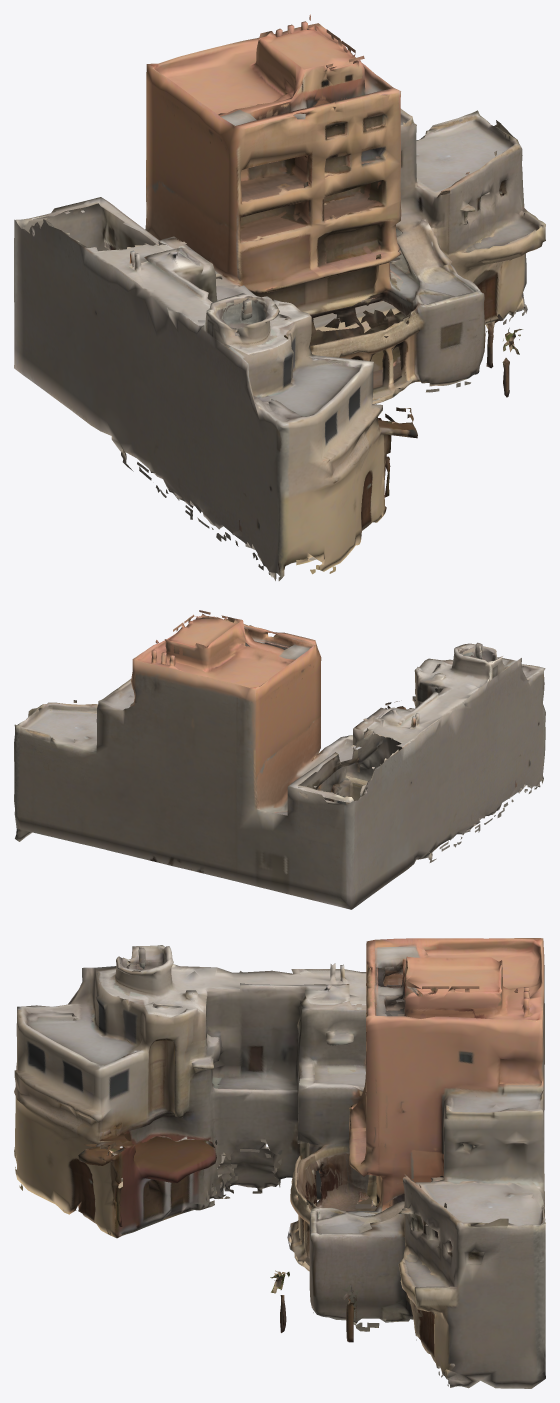
The model's file is Create_a_small_middle_0605115339_texture.obj.
3 renders of one model, top to bottom at view 1: azimuth 30°, elevation 25°; view 2: azimuth 150°, elevation 25°; view 3: azimuth 270°, elevation 25°, orthographic. The views are drawn at different scales.
Visible parts, largest first — view 1: Create_a_small_middle_0605115339_texture; view 2: Create_a_small_middle_0605115339_texture; view 3: Create_a_small_middle_0605115339_texture.
Boxes of the visible parts, x1,y1,x2,y2 form: Create_a_small_middle_0605115339_texture: (14,14,545,580); Create_a_small_middle_0605115339_texture: (14,610,545,909); Create_a_small_middle_0605115339_texture: (14,938,545,1388).
Size of the model in its own units: 1.99 by 1.3 by 1.99.
Materials: 1 (1 with a texture image).
